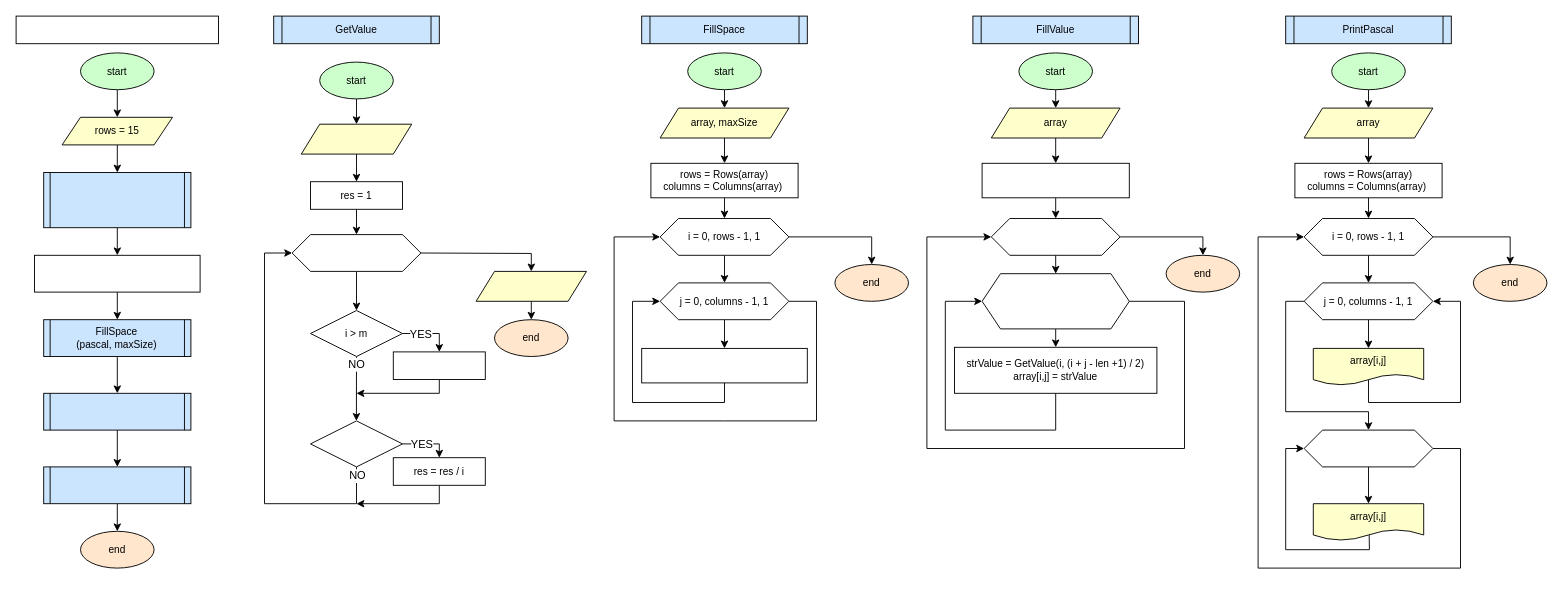
Image size: 1563x592. Some labels were removed from this diagram. The box of each missing label's shape, as (x1, y1, x2, y2) in pixels:
array[i,j] = Repeat(" ", maxSize): (641, 347, 807, 383)
FillValue (pascal): (43, 392, 191, 430)
i <= n - m: (310, 420, 402, 467)
i = 0, len - 1, 1: (990, 218, 1120, 255)
i = n, 2, -1: (291, 234, 421, 271)
j = columns - 2, 0, -1: (1303, 429, 1433, 467)
j = len - 1 - i % 2, len - 1 - i, -2: (981, 273, 1129, 329)
len = Rows(array): (981, 162, 1129, 198)
maxNumber = GetValue (rows - 1, rows -1) /2 ): (43, 172, 191, 228)
maxSize = log 10 maxNumber + 1 pascal[,]: (34, 254, 200, 292)
n, m: (300, 123, 412, 154)
PrintPascal (pascal): (43, 466, 191, 504)
res: (475, 270, 586, 301)
res = res * i: (392, 351, 485, 380)
Показать треугольник Паскаля: (15, 15, 218, 44)
